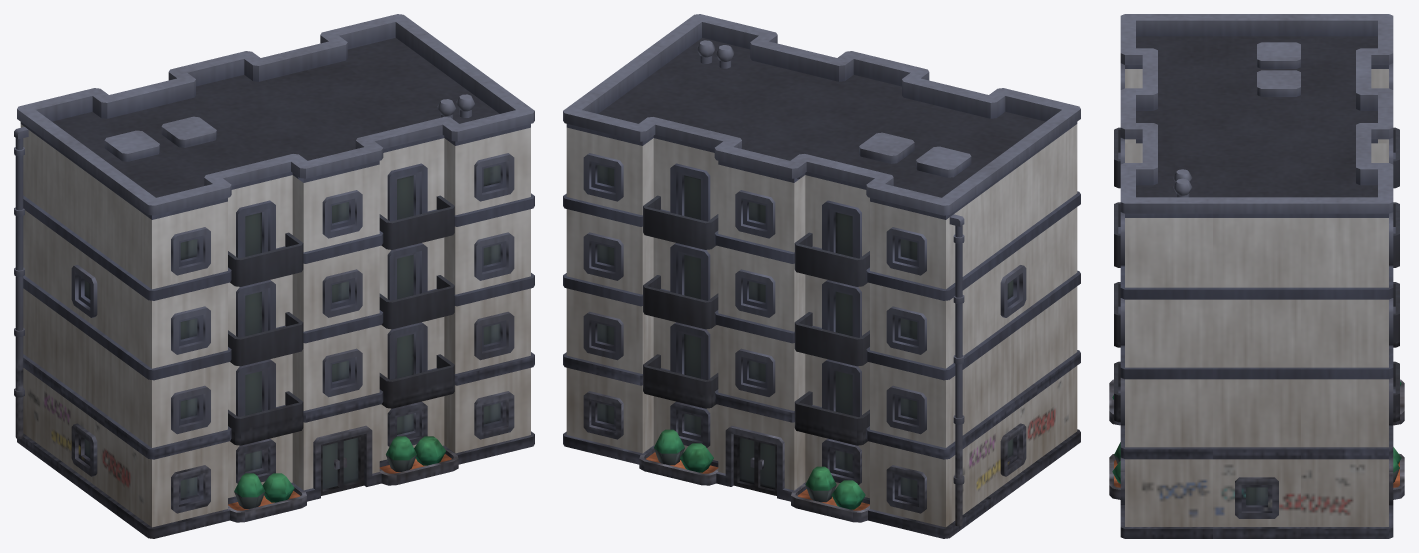
The model's file is building-j-white-scuffed.glb.
3 renders of one model, left to right at view 1: azimuth 30°, elevation 25°; view 2: azimuth 150°, elevation 25°; view 3: azimuth 270°, elevation 25°, orthographic.
Parts seen in each view (by area): view 1: building-j; view 2: building-j; view 3: building-j.
Part boxes in pixels (x1,y1,x2,y2): building-j: (14,14,534,538); building-j: (563,14,1080,538); building-j: (1109,14,1404,538).
Size of the model in its own units: 2.08 by 1.69 by 1.34.
1 material, 1 textured.
